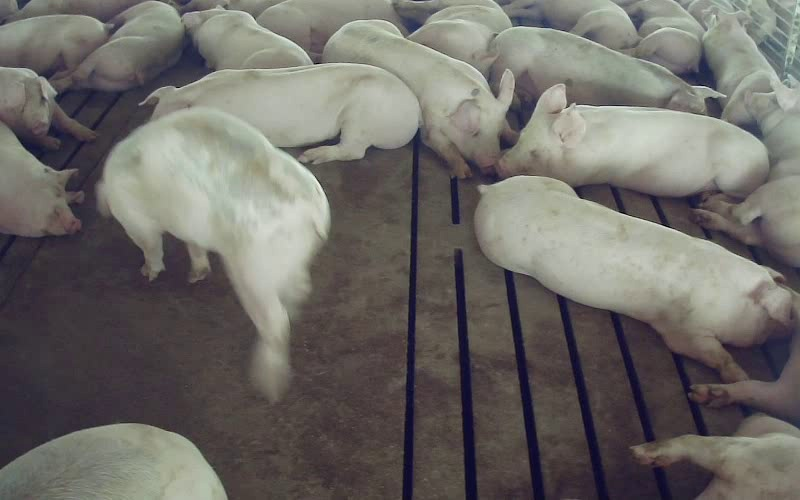pig: (97, 108, 329, 400), (474, 176, 792, 381), (497, 84, 768, 206), (322, 21, 514, 176), (144, 64, 419, 163), (490, 27, 723, 113), (694, 76, 799, 266), (0, 424, 226, 499), (630, 414, 799, 499), (51, 0, 184, 92), (256, 0, 406, 61), (394, 0, 511, 76), (182, 5, 312, 69), (0, 15, 112, 76), (503, 0, 638, 49), (623, 0, 704, 74)
